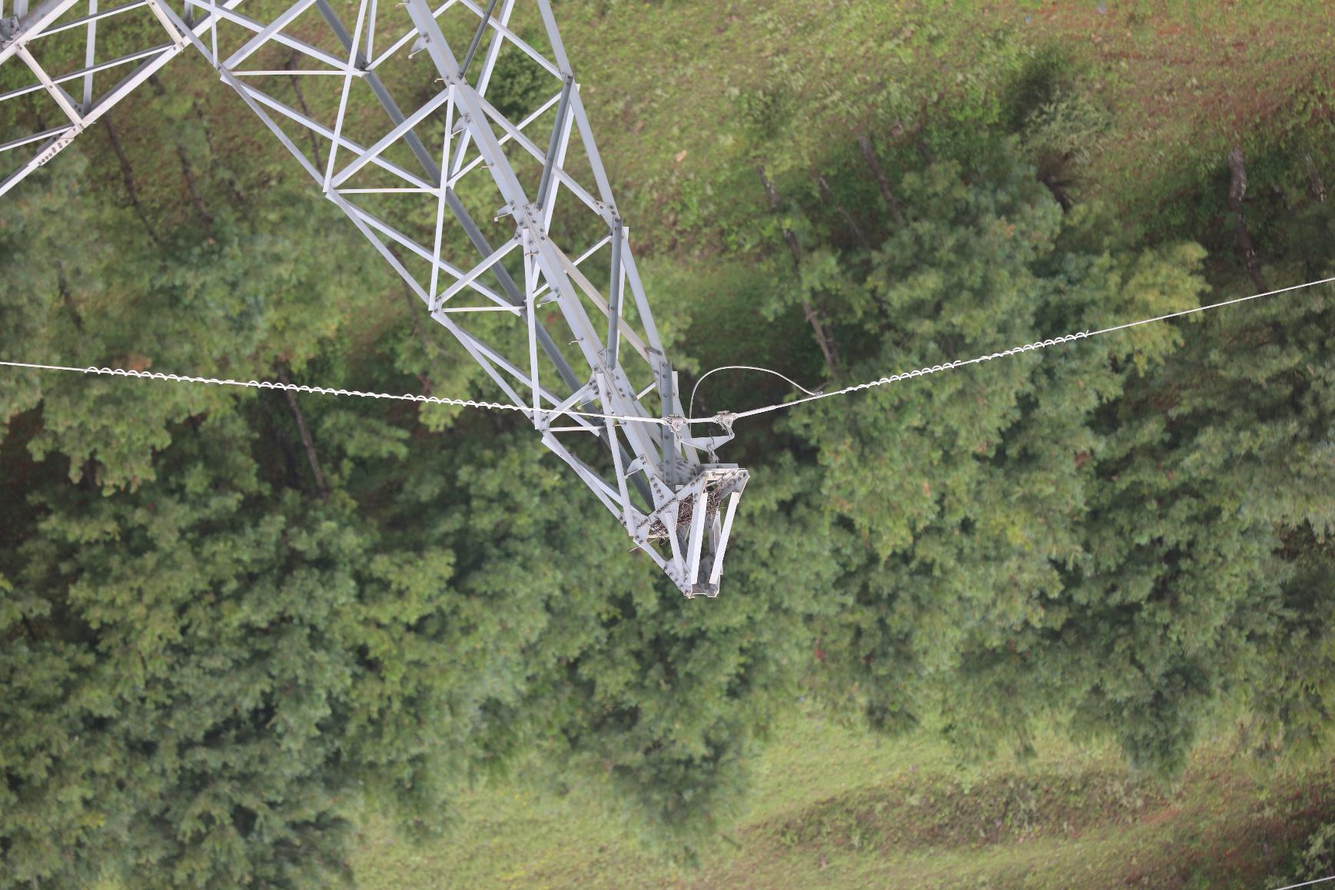nest: (677, 493, 722, 527)
